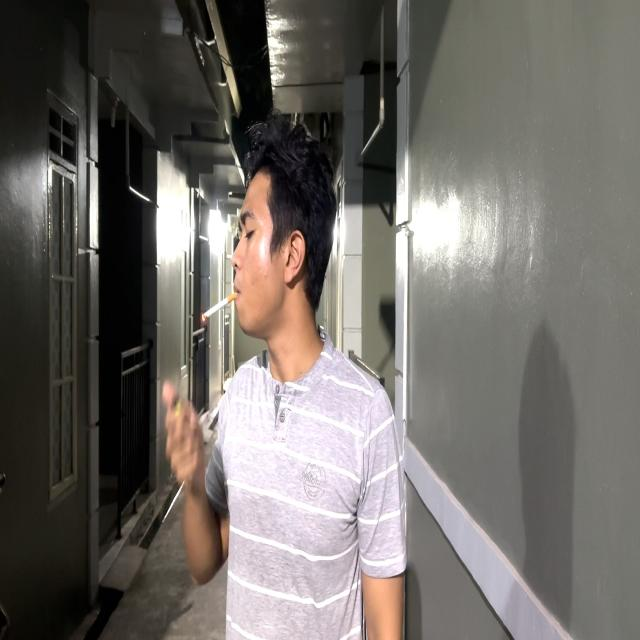cigarette: (200, 287, 241, 326)
smoking: (160, 118, 337, 592)
